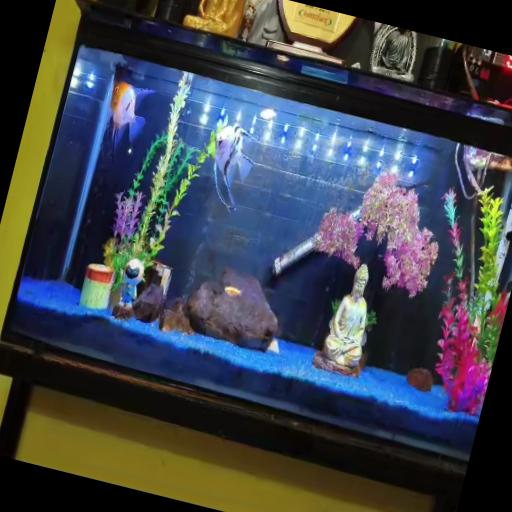Fish: (214, 118, 253, 211), (110, 82, 153, 160), (260, 109, 276, 121)
